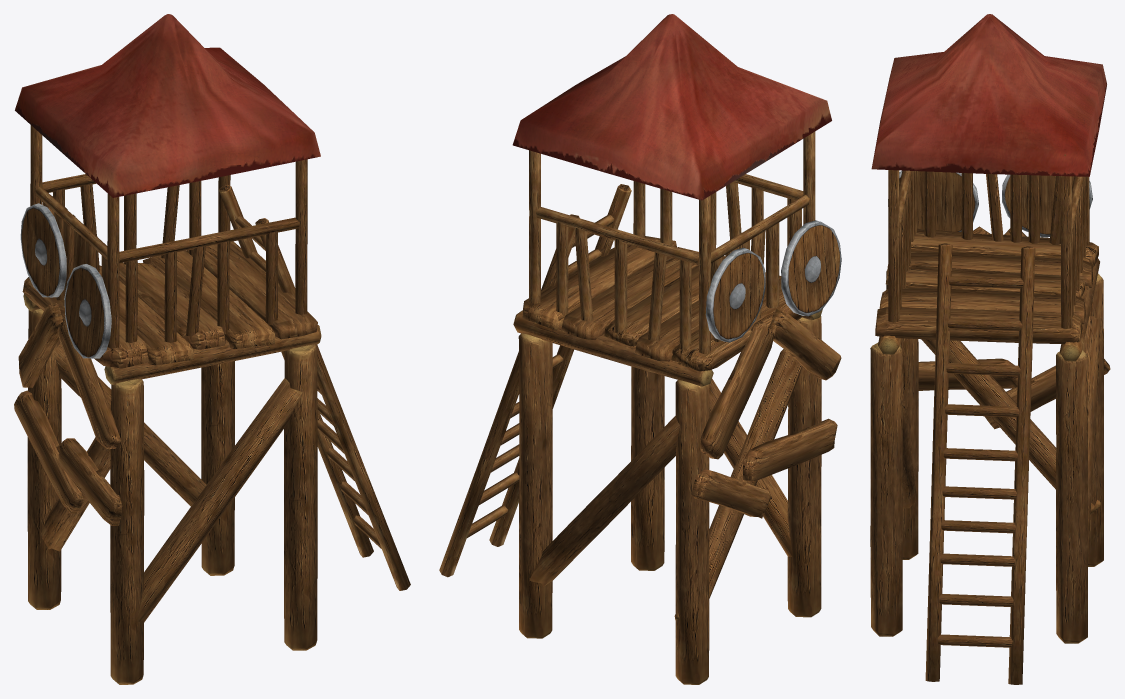
Rendered from tower.FBX.
3 renders of one model, left to right at view 1: azimuth 30°, elevation 25°; view 2: azimuth 150°, elevation 25°; view 3: azimuth 270°, elevation 25°, orthographic. The views are drawn at different scales.
Parts seen in each view (by area): view 1: tower; view 2: tower; view 3: tower.
Boxes of the visible parts, x1,y1,x2,y2 form: tower: (14, 14, 410, 684); tower: (439, 14, 841, 684); tower: (870, 14, 1110, 684).
Size of the model in its own units: 81.32 by 141 by 52.88.
